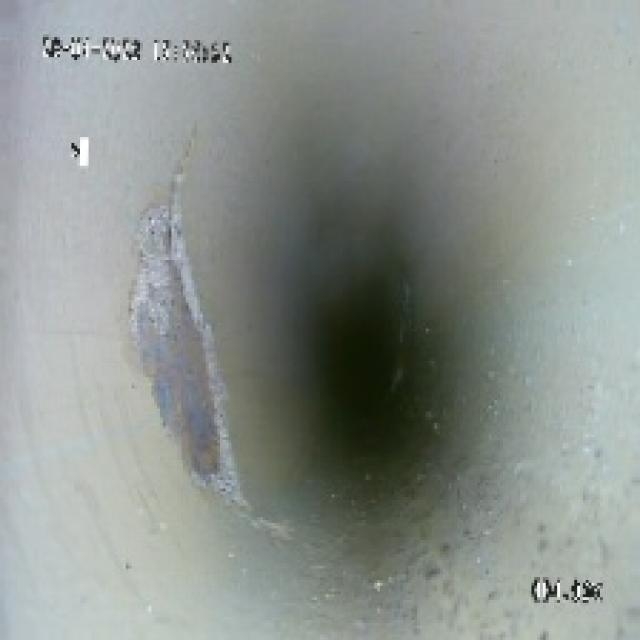pipe_surface_damage: (129, 180, 254, 534)
